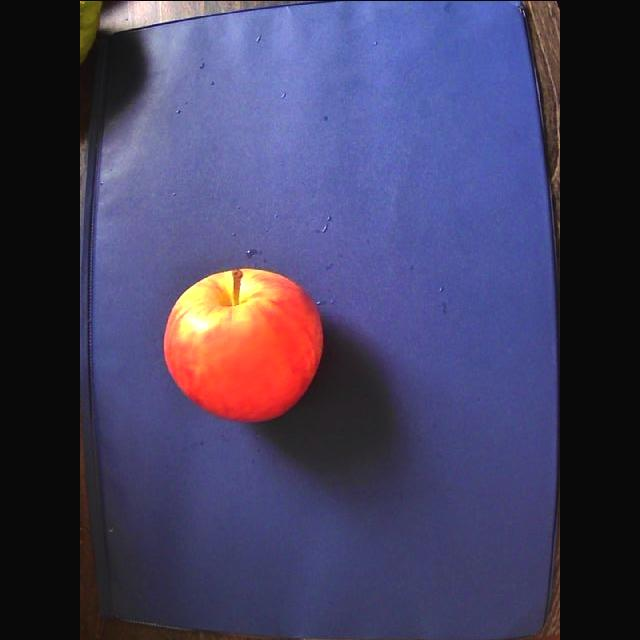manzana: (164, 269, 322, 421)
